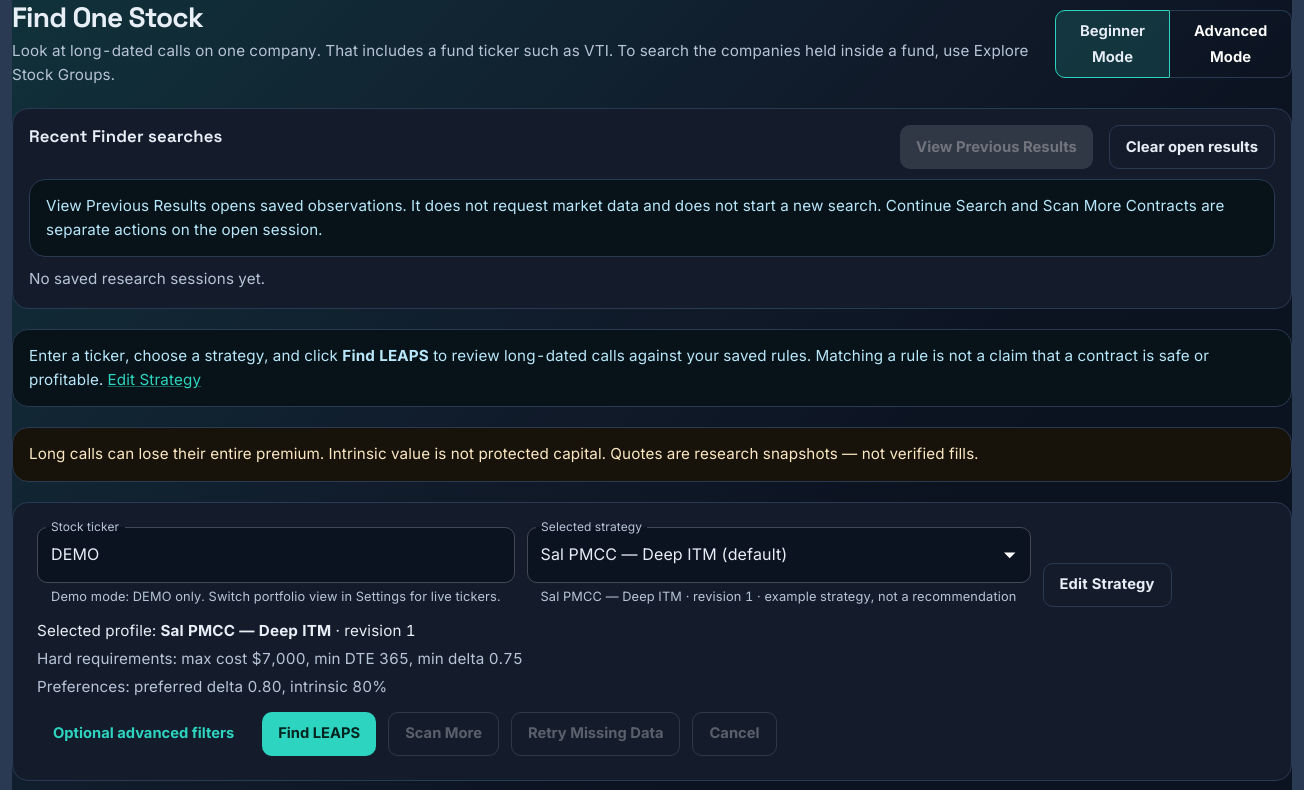
Test case: LEAPS Finder page › blocks invalid exploratory delta and accepts leading-dot values for demo scans
Click the button "Optional advanced filters": (144, 734) [37,712,250,756]
(page scrolled)
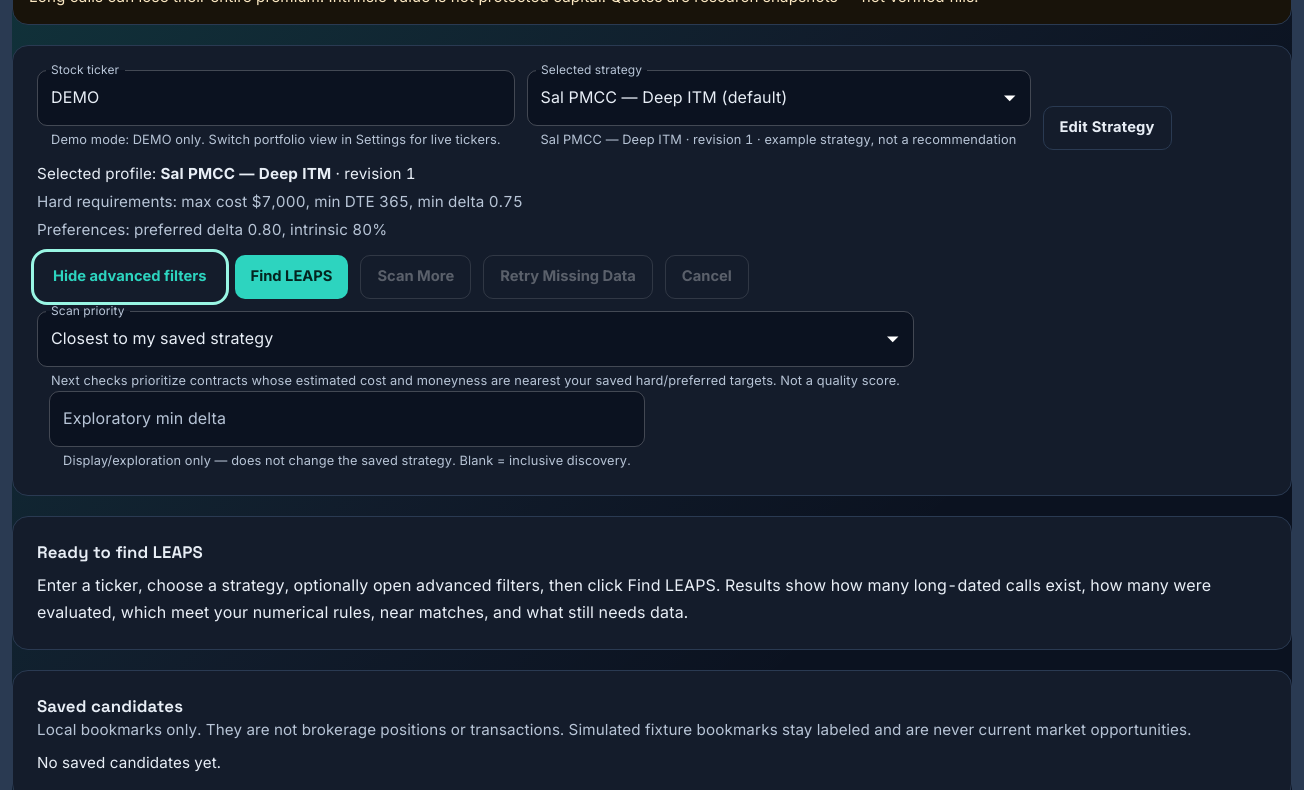
In the field labelled "Exploratory min delta": (347, 419) [49,391,645,447], type "1.5"
(page scrolled)
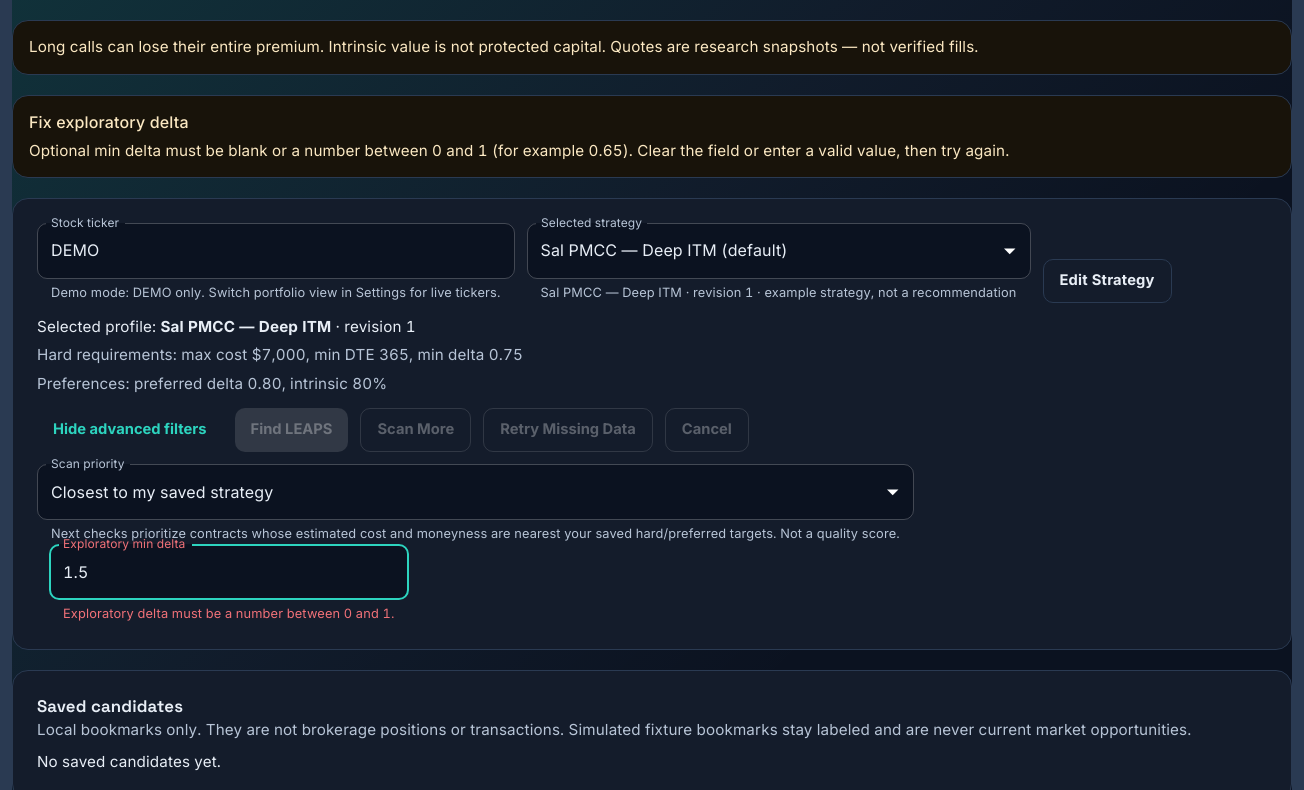
expect the text "between 0 and 1" is shown: met, box [29,141,633,160]
expect the button "Find LEAPS" is disabled: met, box [234,408,348,452]
Clear the field labelled "Exploratory min delta": (229, 572) [49,544,408,600]
(page scrolled)
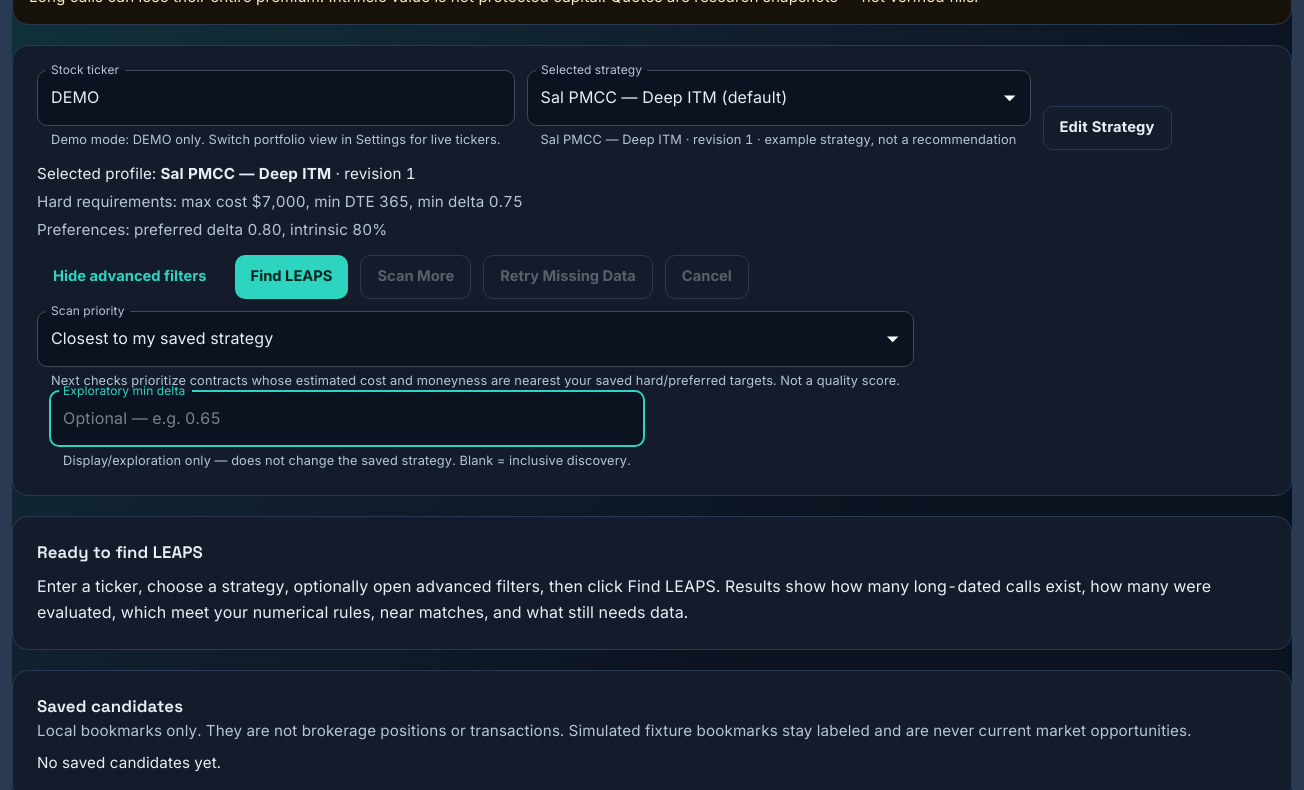
In the field labelled "Exploratory min delta": (347, 419) [49,391,645,447], type ".80"
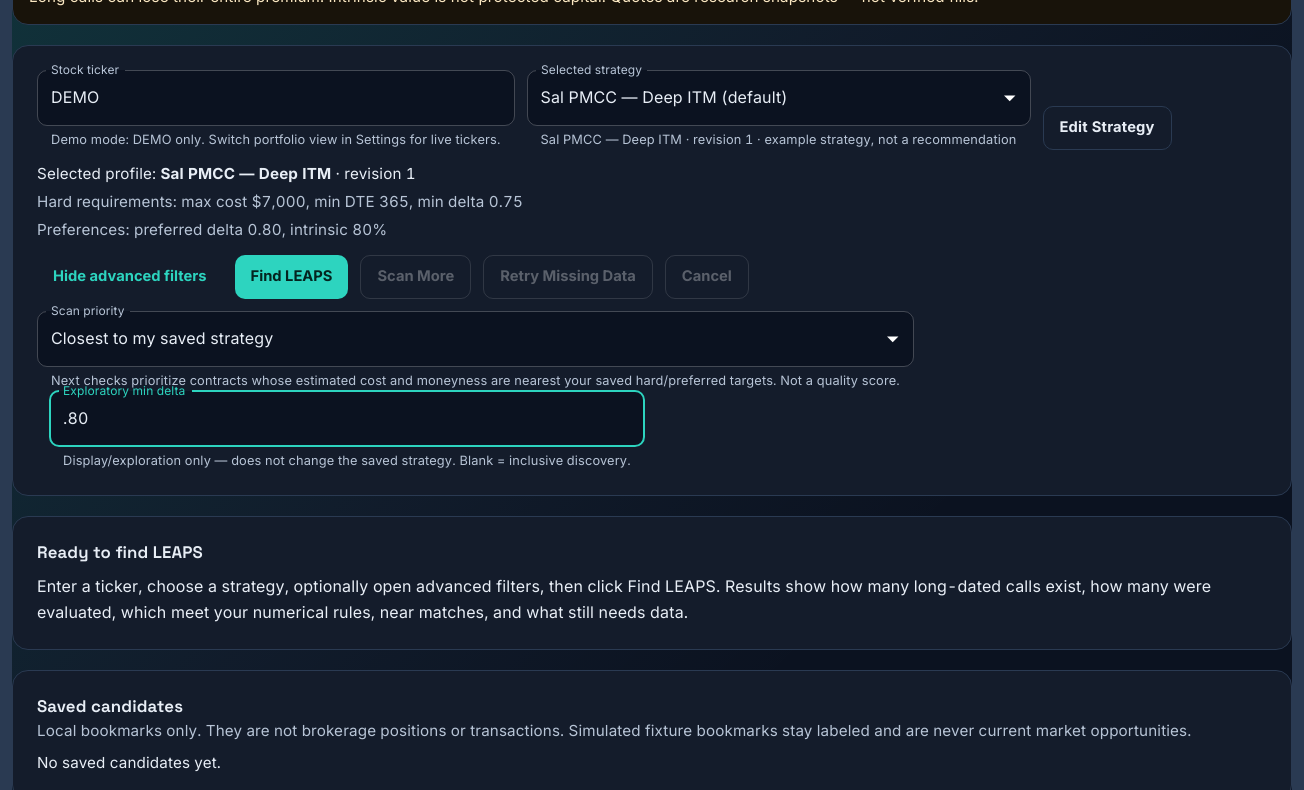
expect the heading "Fix exploratory delta" is not shown: met
expect the button "Find LEAPS" is enabled: met
Click the button "Find LEAPS": (292, 277) [234,255,348,299]
(page scrolled)
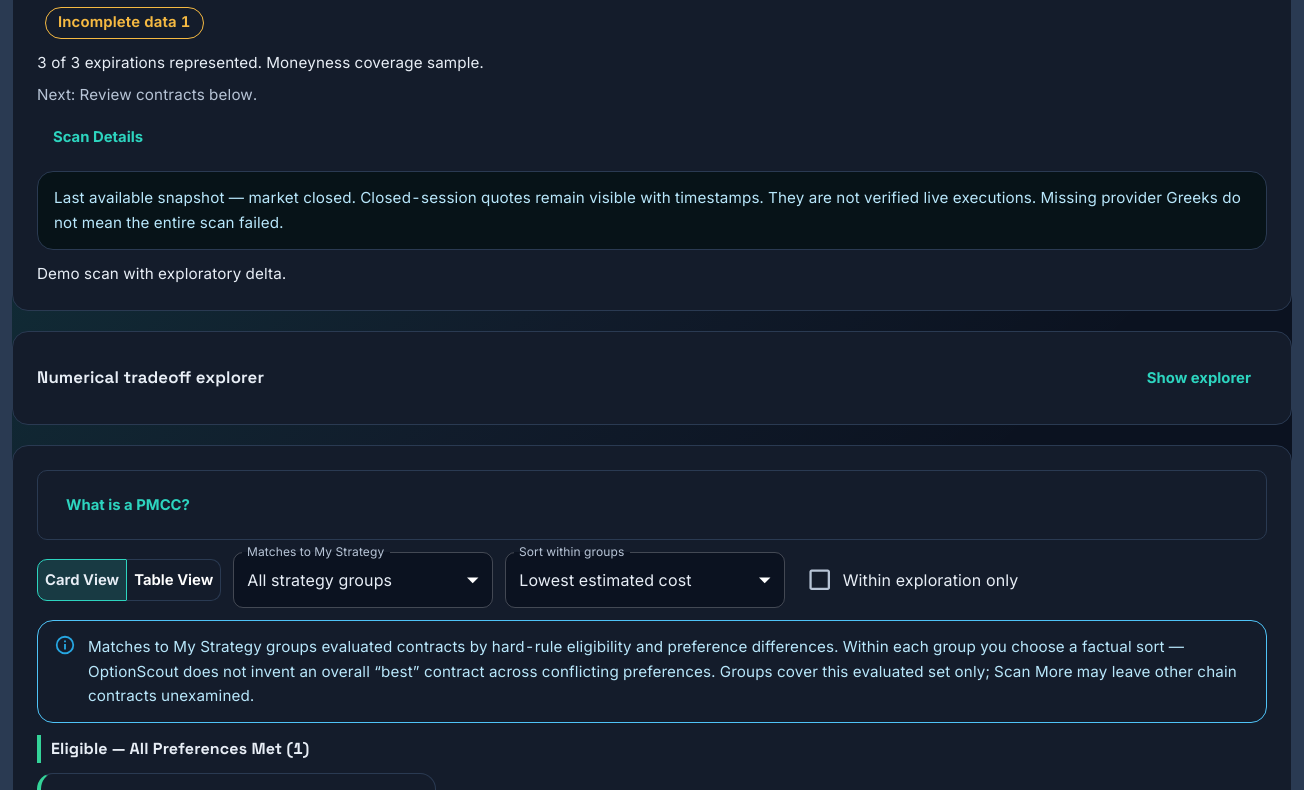
expect the text "Demo scan with exploratory delta." is shown: met, box [37,264,286,283]
